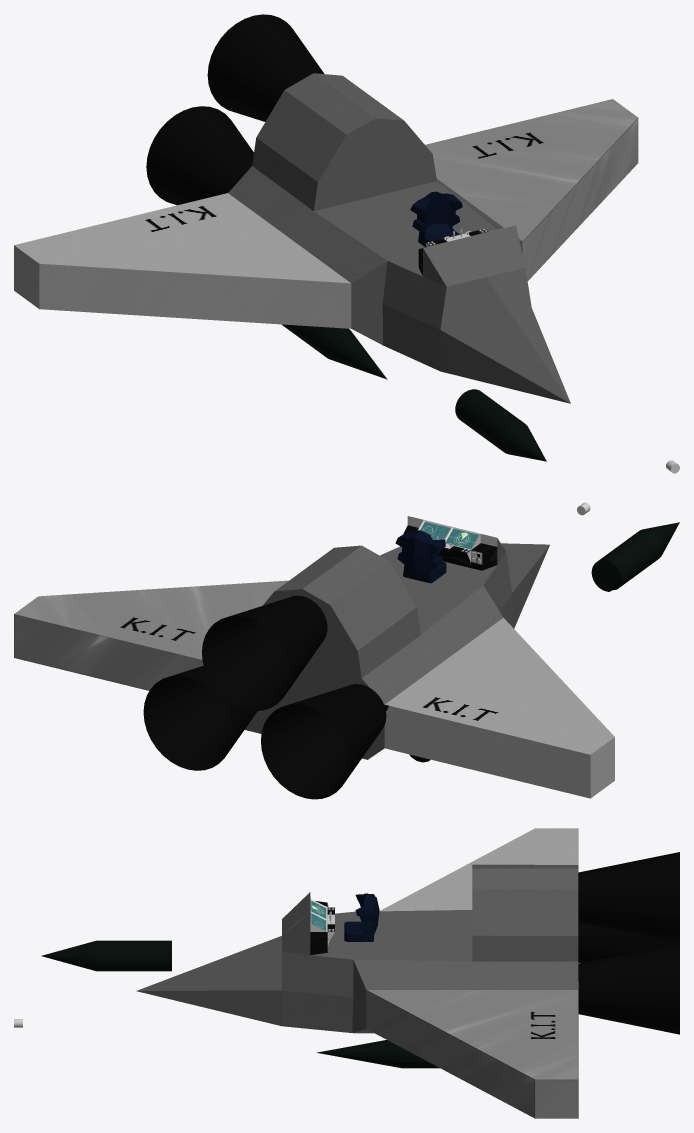
The model's file is player 1.fbx.
3 renders of one model, top to bottom at view 1: azimuth 30°, elevation 25°; view 2: azimuth 150°, elevation 25°; view 3: azimuth 270°, elevation 25°, orthographic. The views are drawn at different scales.
Parts seen in each view (by area): view 1: sokumen1, hane2, hane1, naibu, Cylinder.005, Cylinder.002, missile, isu; view 2: hane2, sokumen1, hane1, Cylinder.002, Cylinder.005, Cylinder, naibu, missile, isu, pit, sakuhin, pit2; view 3: sokumen1, hane1, Cylinder.005, Cylinder, naibu, hane2, missile, Cylinder.002, isu, pit.
Part boxes in pixels (<box>): sokumen1: <box>228,73,570,403</box>; hane2: <box>14,193,351,328</box>; hane1: <box>425,99,638,280</box>; naibu: <box>314,118,496,276</box>; Cylinder.005: <box>207,14,324,121</box>; Cylinder.002: <box>146,106,253,205</box>; missile: <box>455,389,546,461</box>; isu: <box>410,191,462,247</box>; hane2: <box>384,618,614,798</box>; sokumen1: <box>244,536,549,762</box>; hane1: <box>14,580,288,690</box>; Cylinder.002: <box>261,684,386,799</box>; Cylinder.005: <box>202,595,327,710</box>; Cylinder: <box>143,666,257,770</box>; naibu: <box>380,546,496,634</box>; missile: <box>591,522,679,591</box>; isu: <box>395,530,446,583</box>; pit: <box>403,525,497,570</box>; sakuhin: <box>420,522,478,549</box>; pit2: <box>407,516,497,561</box>; sokumen1: <box>136,864,578,1068</box>; hane1: <box>366,990,578,1118</box>; Cylinder.005: <box>578,852,679,943</box>; Cylinder: <box>578,943,679,1034</box>; naibu: <box>311,910,472,961</box>; hane2: <box>379,828,578,911</box>; missile: <box>41,940,171,971</box>; Cylinder.002: <box>578,923,679,963</box>; isu: <box>344,893,379,941</box>; pit: <box>310,901,334,955</box>.
Size of the model in its own units: 560 by 184 by 628.
12 materials, 6 textured.
